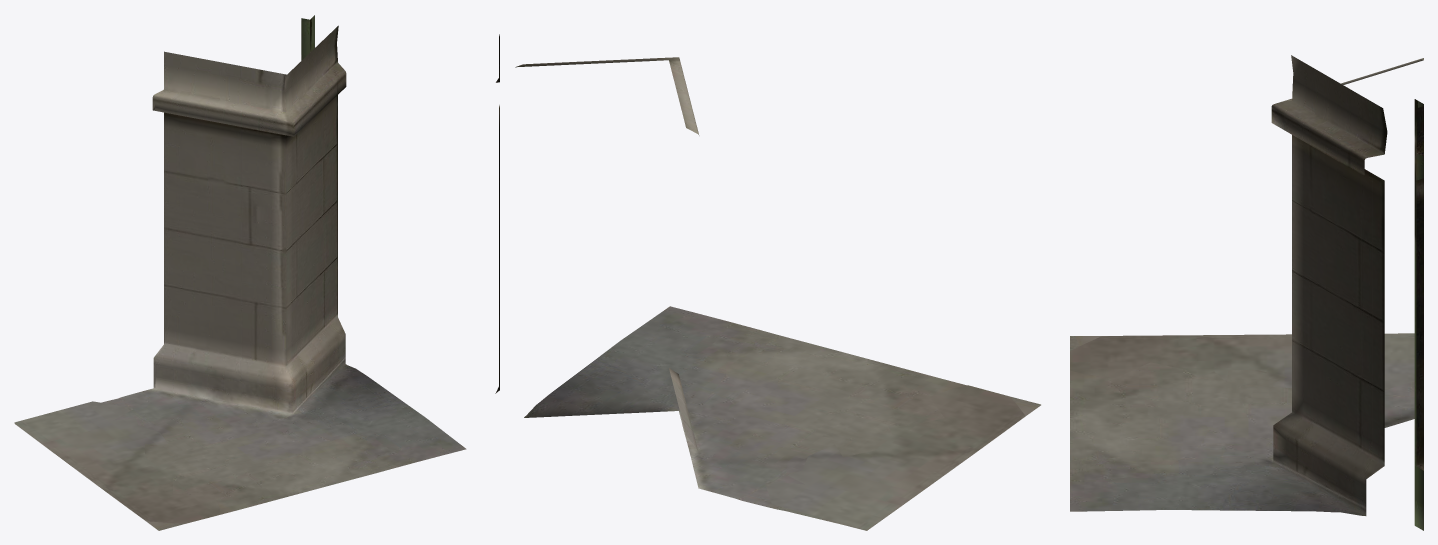
3 renders of one model, left to right at view 1: azimuth 30°, elevation 25°; view 2: azimuth 150°, elevation 25°; view 3: azimuth 270°, elevation 25°, orthographic. The views are drawn at different scales.
Size of the model in its own units: 2.47 by 2.68 by 2.01.
1 material, 1 textured.
